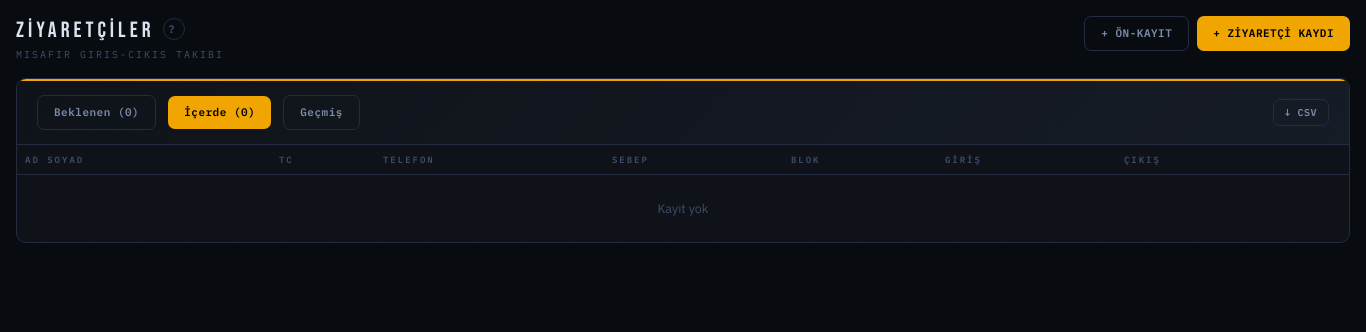
Test case: visitors/VisitorsPage smoke › beklenen sekmesinde QR Kart ve Giriş Yap aksiyonlarını listeler
What coordinates should you click on to do the following:
click the button "Beklenen (0)"
I would click on:
 (97, 112)
Its box is [37,95,156,130].
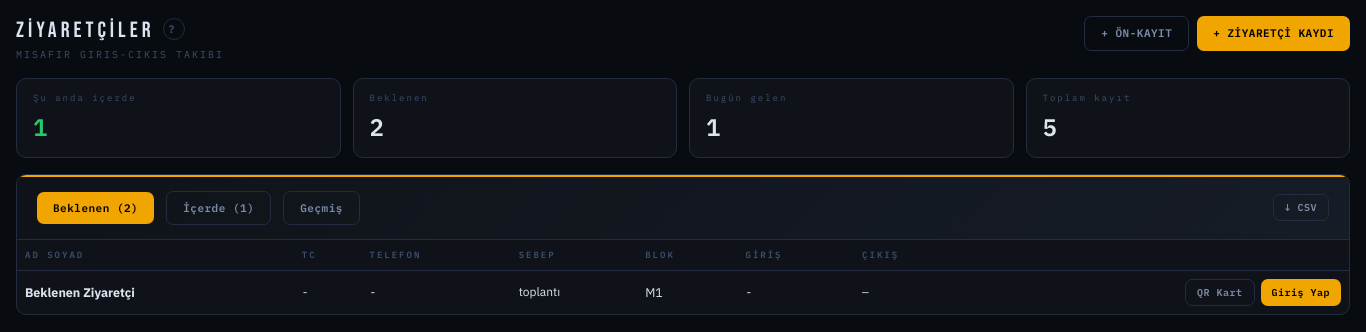
Now the text "Beklenen Ziyaretçi" is shown, box [25,284,135,300]
Now the button "QR Kart" is shown, box [1185,278,1254,306]
Now the button "Giriş Yap" is shown, box [1260,278,1341,306]
